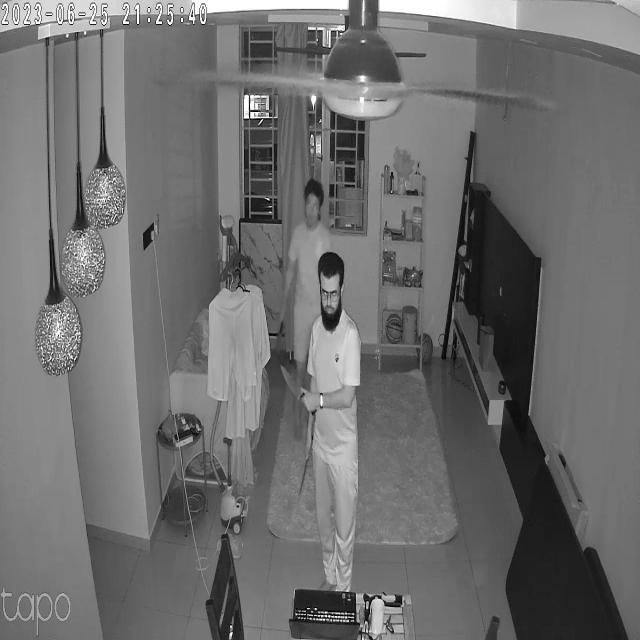Knife: (275, 360, 311, 404)
